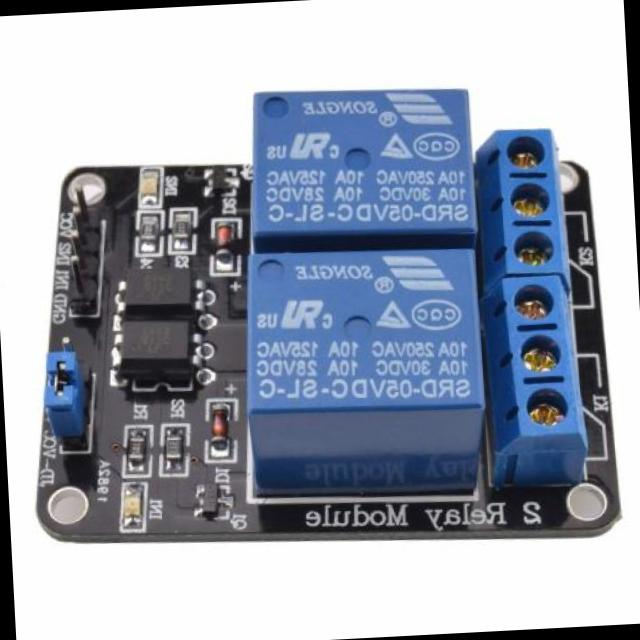IC: (106, 312, 205, 388), (116, 265, 204, 320)
LED: (120, 482, 146, 530), (136, 166, 160, 209)
connector: (475, 125, 580, 484), (54, 186, 109, 323), (32, 342, 94, 432)
diode: (200, 401, 231, 452), (208, 219, 236, 267)
resistor: (172, 208, 198, 256), (132, 210, 160, 251), (124, 426, 149, 470), (161, 428, 183, 466)
transistor: (187, 474, 227, 522), (202, 159, 242, 203)
